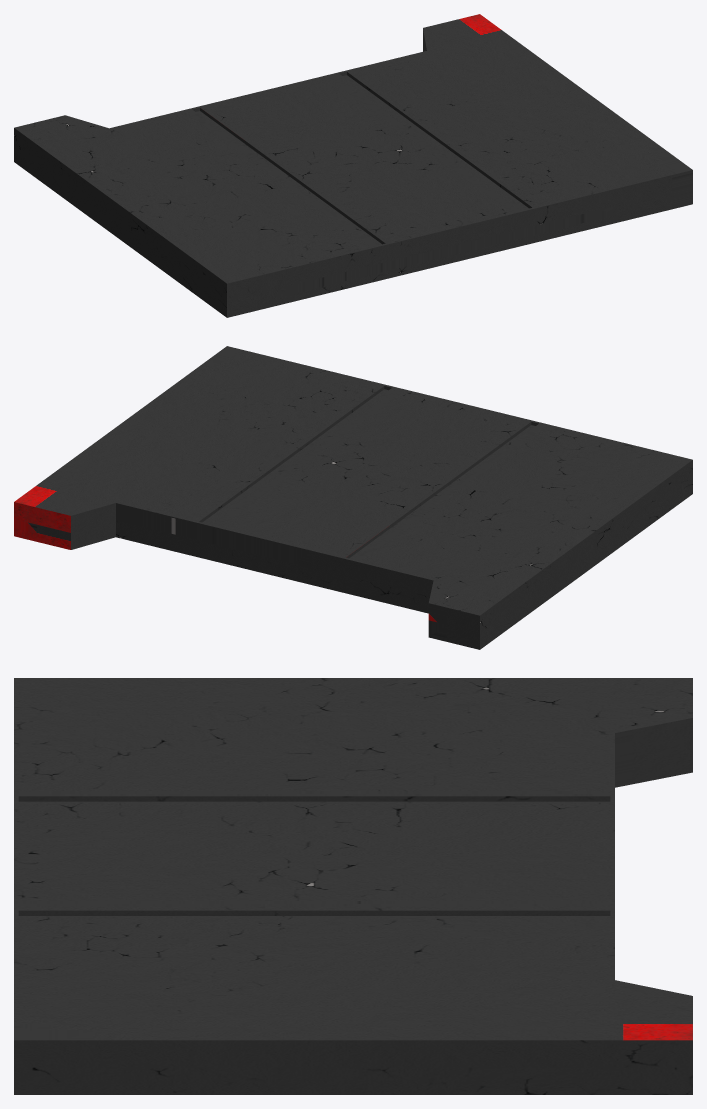
File: DH_RightDoor.fbx
The picture shows the model from 3 angles, top to bottom: view 1: azimuth 30°, elevation 25°; view 2: azimuth 150°, elevation 25°; view 3: azimuth 270°, elevation 25°; orthographic projection. The views are drawn at different scales.
Visible parts, largest first — view 1: MS_DropHatchRight; view 2: MS_DropHatchRight; view 3: MS_DropHatchRight.
Part boxes in pixels (<box>): MS_DropHatchRight: <box>14,14,692,317</box>; MS_DropHatchRight: <box>14,346,692,649</box>; MS_DropHatchRight: <box>14,678,692,1094</box>.
Size of the model in its own units: 103 by 7.24 by 81.6.
1 material, 1 textured.
